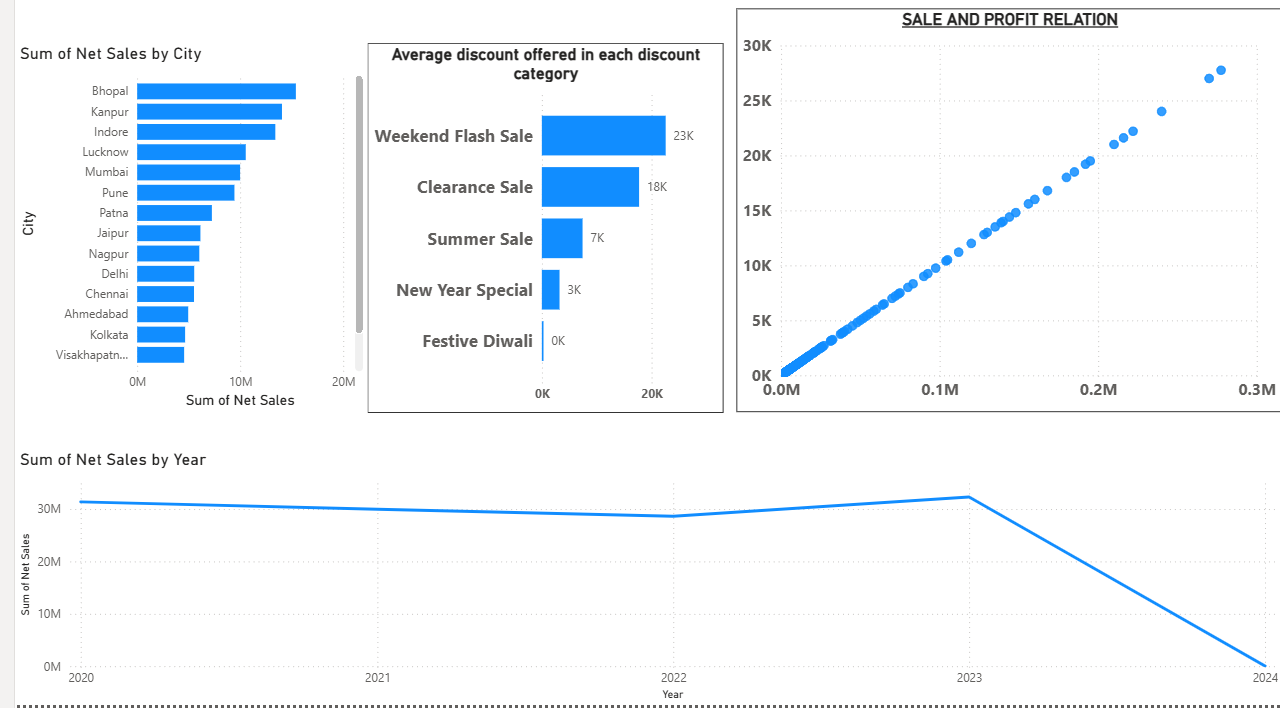

The dashboard page shown, as its layout file describes it:
{"tool":"powerbi","page":{"name":"Sale trend","canvas":[1280,720],"ordinal":2},"visuals":[{"type":"scatterChart","title":"SALE AND PROFIT RELATION","fields":{"X":["Sheet3.Net Sales"],"Y":["Sheet3.PROFIT "]},"box":[728.3,16.7,551.2,407.3],"z":0},{"type":"barChart","title":"Average discount offered in each discount category","fields":{"Category":["Dim Promotion.Promotion Name"],"Y":["Avg(Sheet3.Discount Value)"]},"box":[356,51.3,359.1,373.1],"z":1000},{"type":"lineChart","fields":{"Y":["Sum(Sheet3.Net Sales)"],"Category":["date table 2.Date.Variation.Date Hierarchy.Year","date table 2.Date.Variation.Date Hierarchy.Quarter","date table 2.Date.Variation.Date Hierarchy.Month","date table 2.Date.Variation.Date Hierarchy.Day"]},"box":[0,461.8,1279.5,257.4],"z":2000},{"type":"clusteredBarChart","fields":{"Category":["Dim Customers.City"],"Y":["Sum(Sheet3.Net Sales)"]},"box":[0,51,356,373],"z":3000}]}

Visuals, with their boxes in screenshot pixels (x1, y1, x2, y2), scaled from the page's 1280x720 canvas onto the 1280x708 screenshot:
"SALE AND PROFIT RELATION" scatterChart: x1=728 y1=16 x2=1279 y2=417
"Average discount offered in each discount category" barChart: x1=356 y1=50 x2=715 y2=417
lineChart - Sum(Sheet3.Net Sales) x date table 2.Date.Variation.Date Hierarchy.Year: x1=0 y1=454 x2=1279 y2=707
clusteredBarChart - Dim Customers.City x Sum(Sheet3.Net Sales): x1=0 y1=50 x2=356 y2=417
